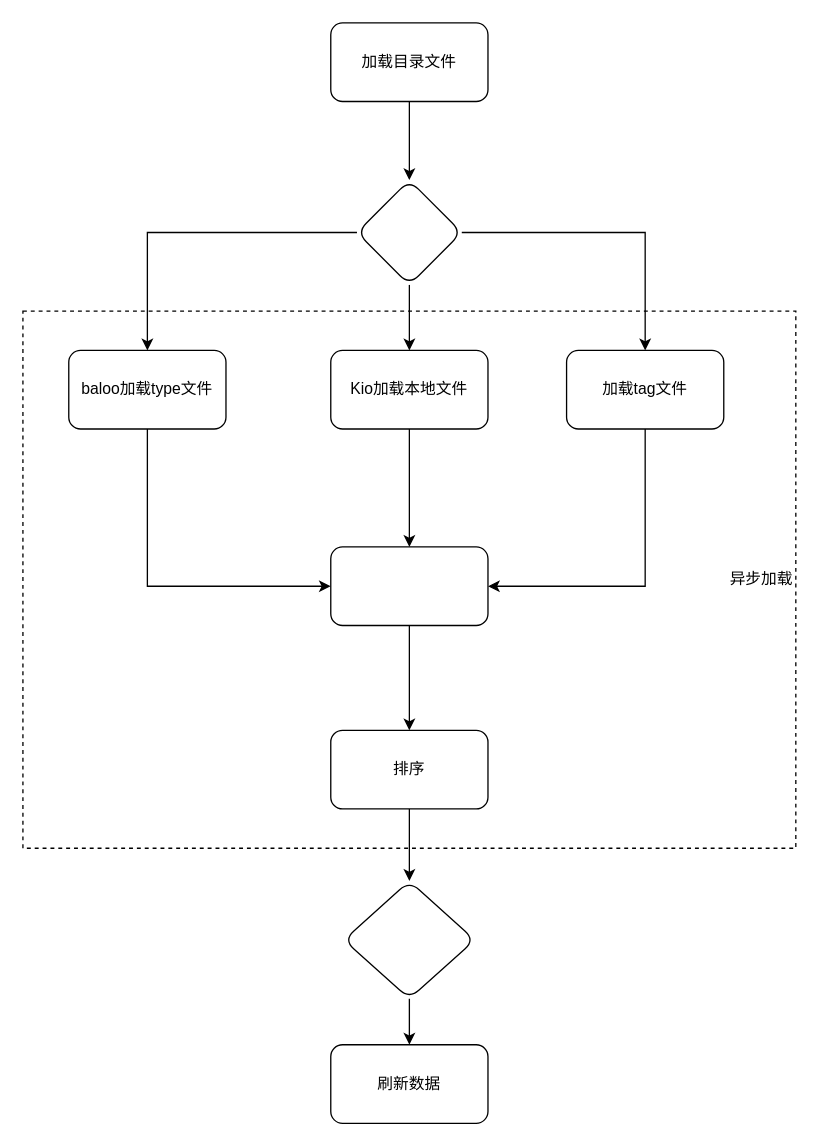
The diagram is 819 pixels wide and 1146 high, and some of its shapes have lost their labels. The centre of each missing label's shape, as x and y in pixels:
"判断类型" goes at pixel 409 232.
"是否为本次请求" goes at pixel 409 939.
"获取每个文件信息" goes at pixel 408 586.
